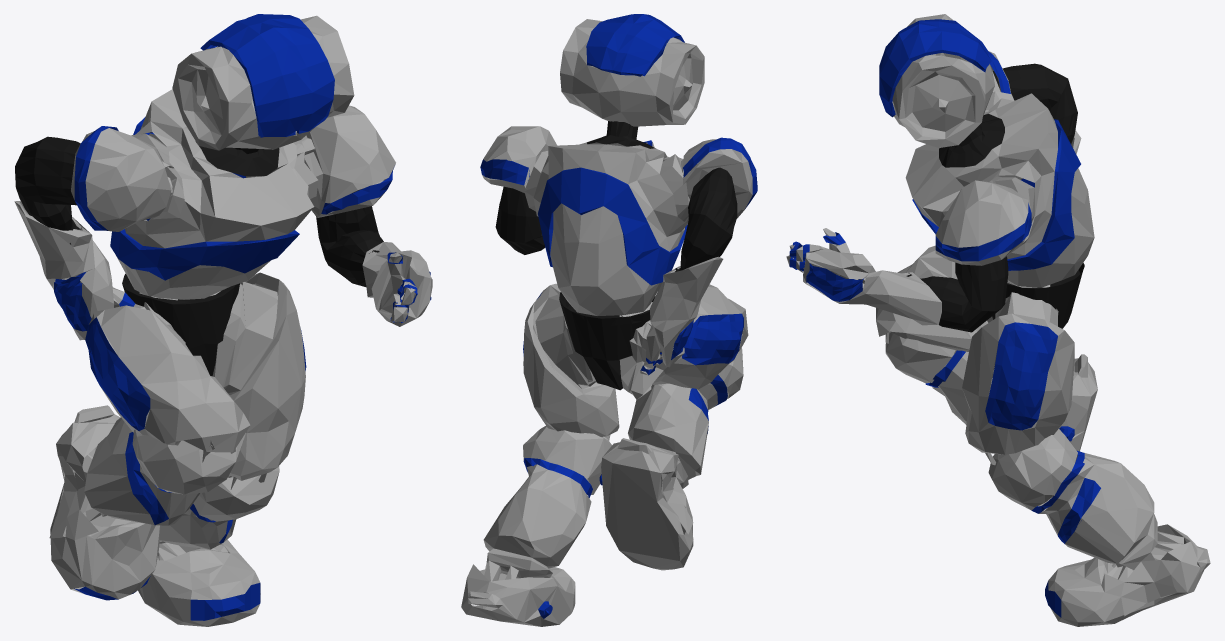
The model's file is run13.obj.
3 renders of one model, left to right at view 1: azimuth 30°, elevation 25°; view 2: azimuth 150°, elevation 25°; view 3: azimuth 270°, elevation 25°, orthographic. The views are drawn at different scales.
Parts seen in each view (by area): view 1: Robot2.001_Robot2Mesh.000, Robot2_Robot2Mesh.004, Robot2.002_Robot2Mesh.001; view 2: Robot2.001_Robot2Mesh.000, Robot2_Robot2Mesh.004, Robot2.002_Robot2Mesh.001; view 3: Robot2.001_Robot2Mesh.000, Robot2_Robot2Mesh.004, Robot2.002_Robot2Mesh.001.
Part boxes in pixels (x1,y1,x2,y2): Robot2.001_Robot2Mesh.000: [14, 15, 432, 626]; Robot2_Robot2Mesh.004: [54, 14, 431, 620]; Robot2.002_Robot2Mesh.001: [15, 136, 383, 376]; Robot2.001_Robot2Mesh.000: [461, 19, 752, 626]; Robot2_Robot2Mesh.004: [480, 14, 757, 618]; Robot2.002_Robot2Mesh.001: [495, 121, 737, 390]; Robot2.001_Robot2Mesh.000: [786, 14, 1210, 626]; Robot2_Robot2Mesh.004: [789, 19, 1100, 617]; Robot2.002_Robot2Mesh.001: [906, 63, 1084, 332].
Bounding box in the file's own units: 1 × 1.91 × 1.28.
